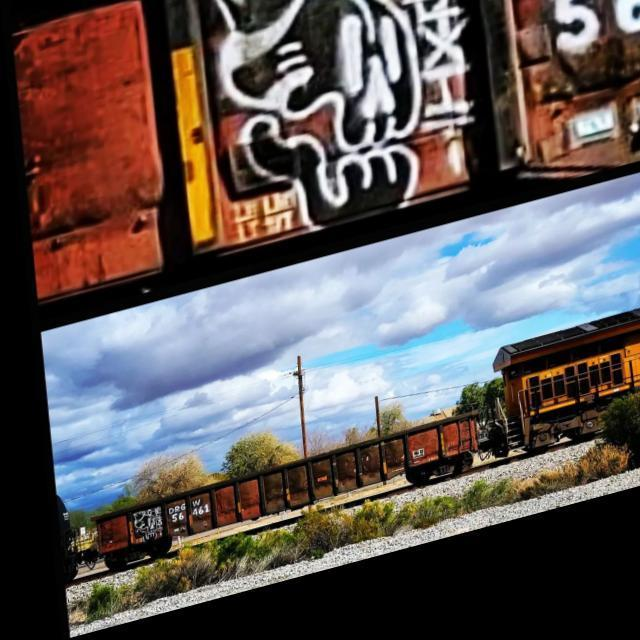-: (160, 0, 490, 278), (510, 0, 640, 115), (120, 512, 152, 552)
